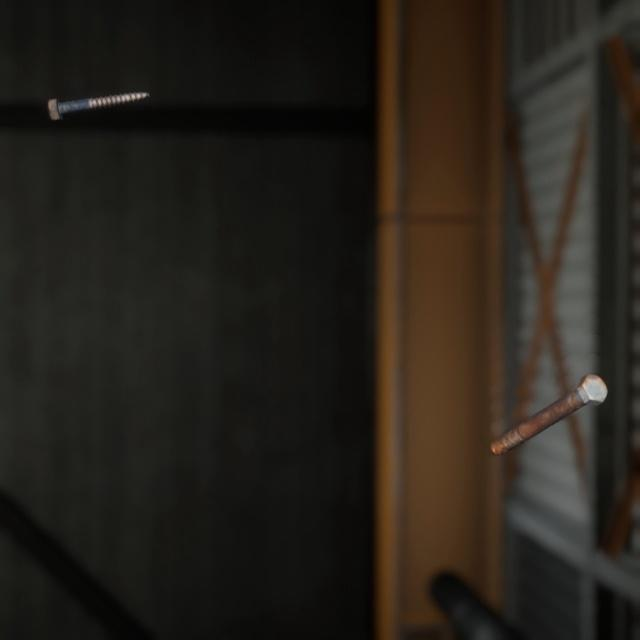bolt: (485, 349, 612, 440), (43, 75, 154, 114)
